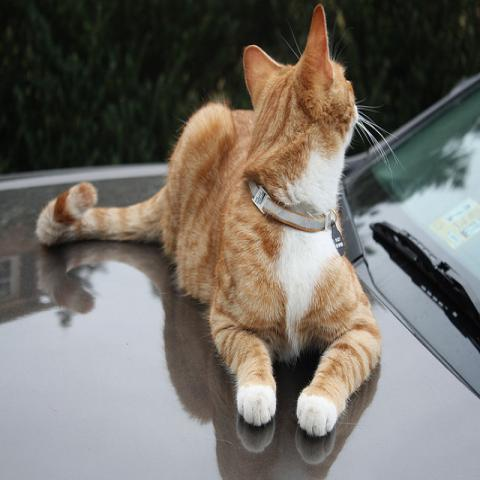car: (1, 71, 479, 474)
